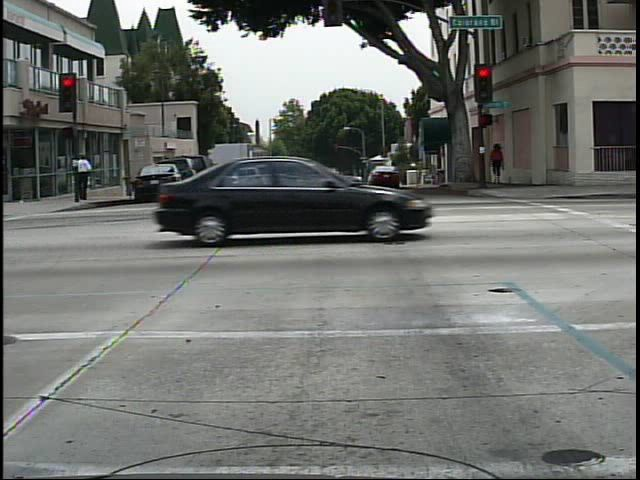person: (68, 147, 97, 209), (488, 137, 511, 189)
